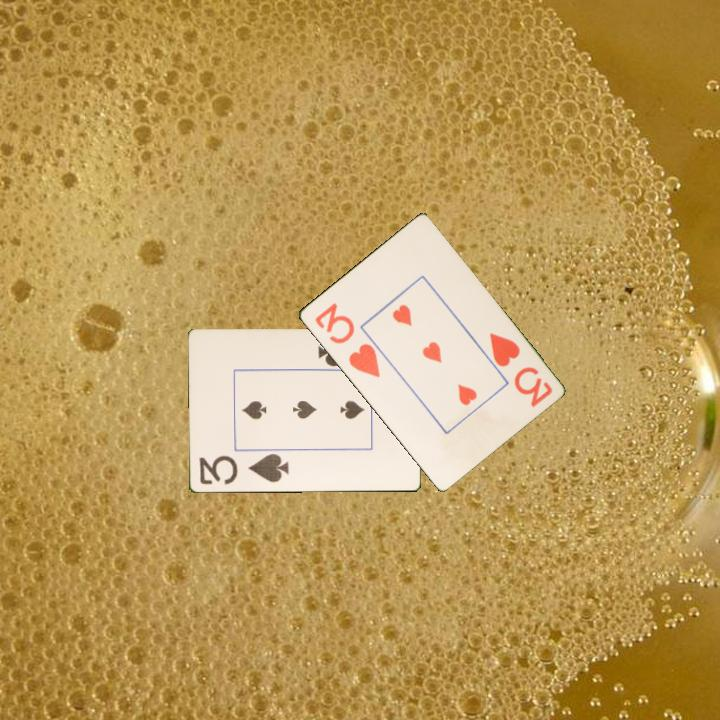3h: (311, 299, 383, 381), (485, 329, 555, 410)
3s: (196, 450, 291, 488)
